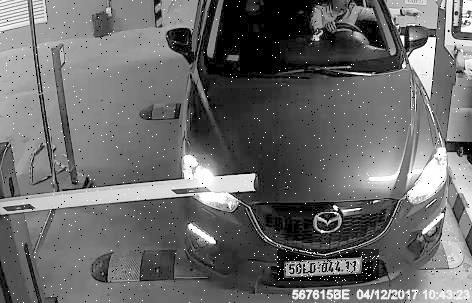License-plate: (279, 250, 382, 282)
